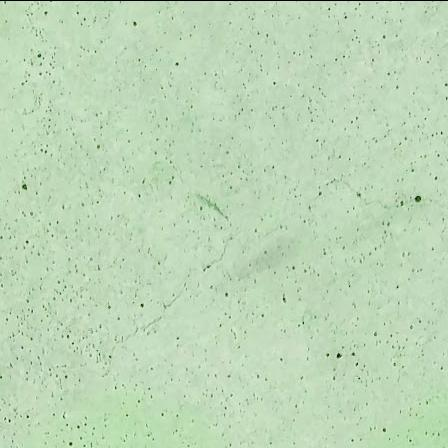crack: (83, 275, 194, 385), (199, 224, 242, 279)
